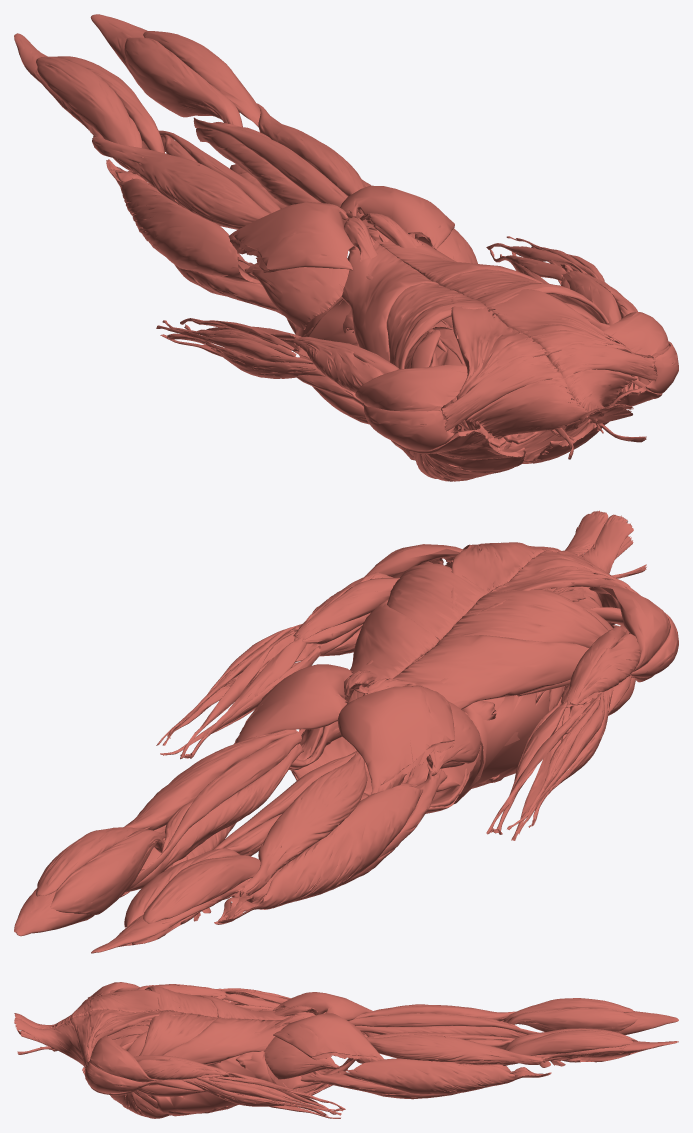
Rendered from anatomy-treethenics-draco.glb.
3 views of the same model, one above another, from view 1: azimuth 30°, elevation 25°; view 2: azimuth 150°, elevation 25°; view 3: azimuth 270°, elevation 25° (orthographic). The views are drawn at different scales.
Visible parts, largest first — view 1: right latissimus dorsi, right gluteus maximus, right vastus lateralis, long head of right biceps femoris, left latissimus dorsi, medial head of left gastrocnemius, descending part of right trapezius, lateral head of right gastrocnemius, ascending part of left trapezius, ascending part of right trapezius, spinal part of right deltoid, right gluteus medius (+36 smaller); view 2: right latissimus dorsi, left latissimus dorsi, right gluteus maximus, right vastus lateralis, long head of right biceps femoris, left gluteus maximus, medial head of left gastrocnemius, right external oblique, left semimembranosus, lateral head of right gastrocnemius, long head of left biceps femoris, left semitendinosus (+36 smaller); view 3: left latissimus dorsi, left vastus lateralis, left gluteus maximus, long head of left biceps femoris, medial head of right gastrocnemius, left external oblique, right latissimus dorsi, lateral head of left gastrocnemius, right semitendinosus, left gluteus medius, spinal part of left deltoid, left rectus femoris (+38 smaller).
Boxes of the visible parts, x1,y1,x2,y2 form: right latissimus dorsi: (341, 237, 488, 369); right gluteus maximus: (228, 201, 356, 272); right vastus lateralis: (106, 160, 260, 284); long head of right biceps femoris: (92, 136, 270, 229); left latissimus dorsi: (368, 227, 608, 324); medial head of left gastrocnemius: (124, 37, 242, 127); descending part of right trapezius: (466, 377, 608, 438); lateral head of right gastrocnemius: (36, 56, 142, 174); ascending part of left trapezius: (459, 288, 634, 356); ascending part of right trapezius: (451, 293, 548, 399); spinal part of right deltoid: (355, 365, 469, 411); right gluteus medius: (245, 263, 349, 329); right latissimus dorsi: (367, 589, 608, 709); left latissimus dorsi: (350, 563, 488, 693); right gluteus maximus: (338, 686, 454, 794); right vastus lateralis: (218, 785, 422, 923); long head of right biceps femoris: (240, 751, 367, 896); left gluteus maximus: (234, 664, 352, 743); medial head of left gastrocnemius: (50, 829, 164, 914); right external oblique: (453, 689, 561, 804); left semimembranosus: (125, 743, 303, 892); lateral head of right gastrocnemius: (143, 855, 260, 923); long head of left biceps femoris: (123, 729, 296, 830); left semitendinosus: (126, 731, 301, 890); left latissimus dorsi: (139, 1010, 287, 1065); left vastus lateralis: (338, 1058, 549, 1094); left gluteus maximus: (273, 1013, 384, 1063); long head of left biceps femoris: (366, 1034, 545, 1064); medial head of right gastrocnemius: (507, 1008, 637, 1032); left external oblique: (151, 1050, 325, 1116); right latissimus dorsi: (145, 985, 291, 1019); lateral head of left gastrocnemius: (503, 1030, 633, 1065); right semitendinosus: (349, 1013, 538, 1034); left gluteus medius: (264, 1036, 336, 1079); spinal part of left deltoid: (89, 1035, 157, 1082); left rectus femoris: (300, 1067, 551, 1099).
Bounding box in the file's own units: 561 × 244 × 1474.
